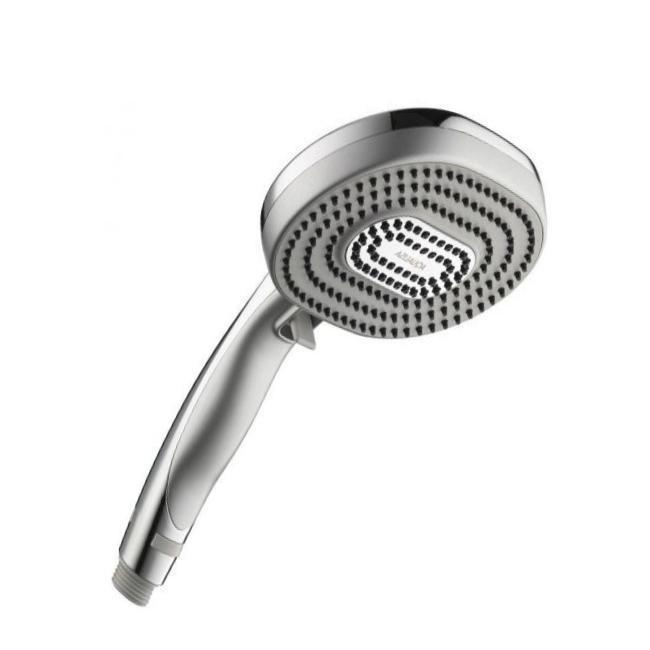Ducha: (105, 75, 562, 623)
